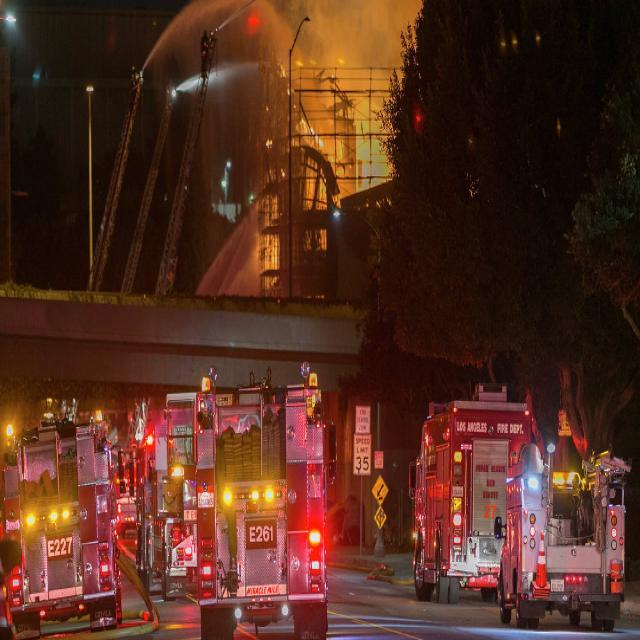Fire: (317, 84, 393, 192)
